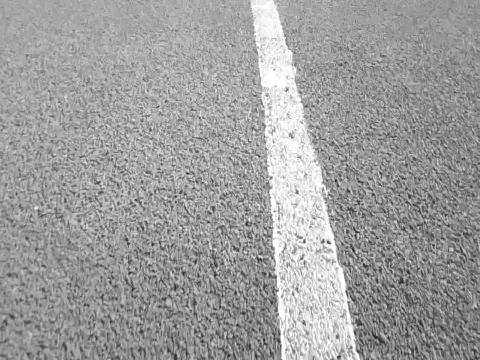Lines: (249, 0, 362, 360)
